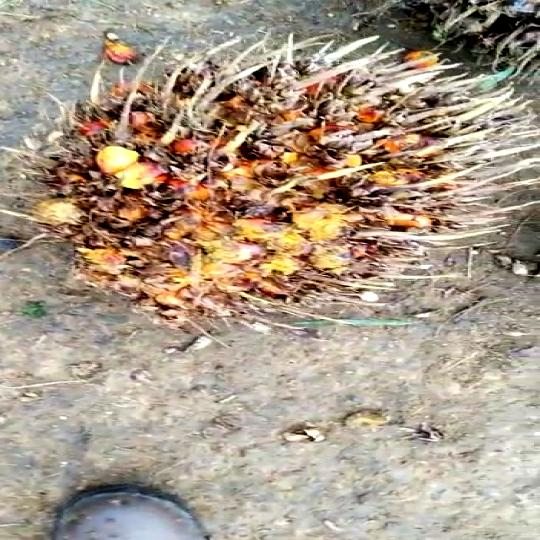terlalu masak: (10, 24, 540, 347)
